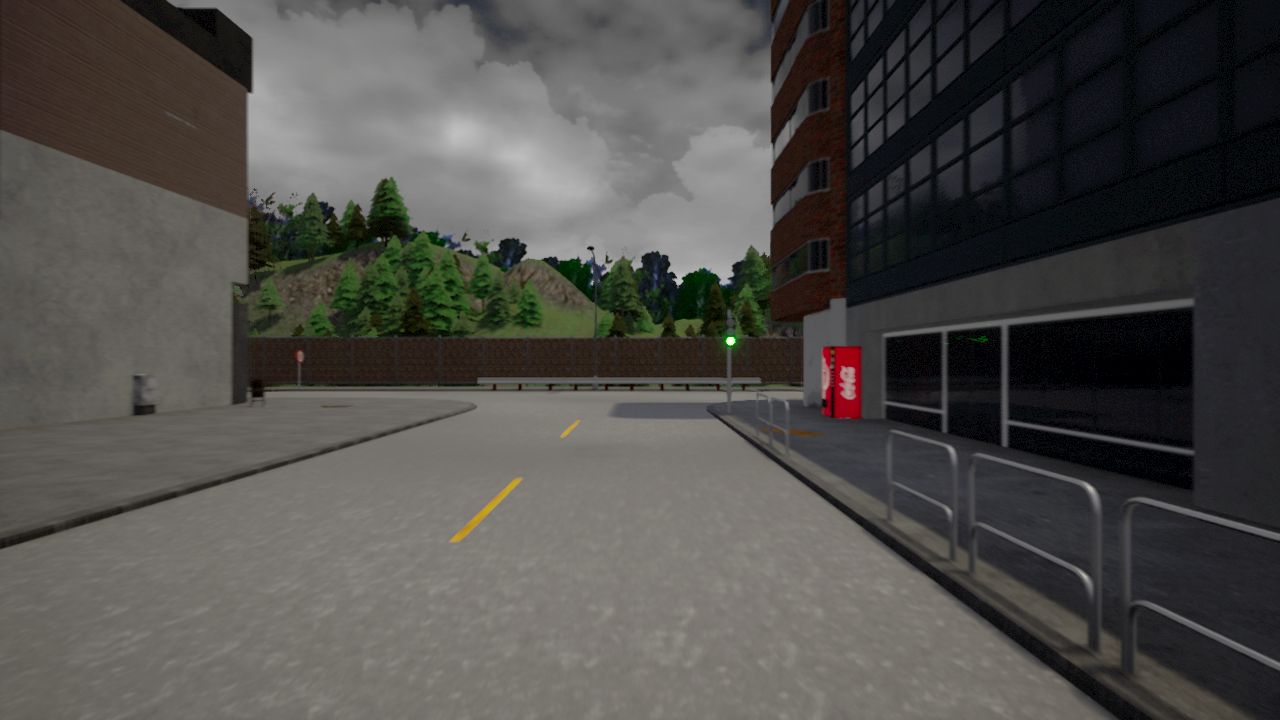green: (724, 316, 738, 349)
